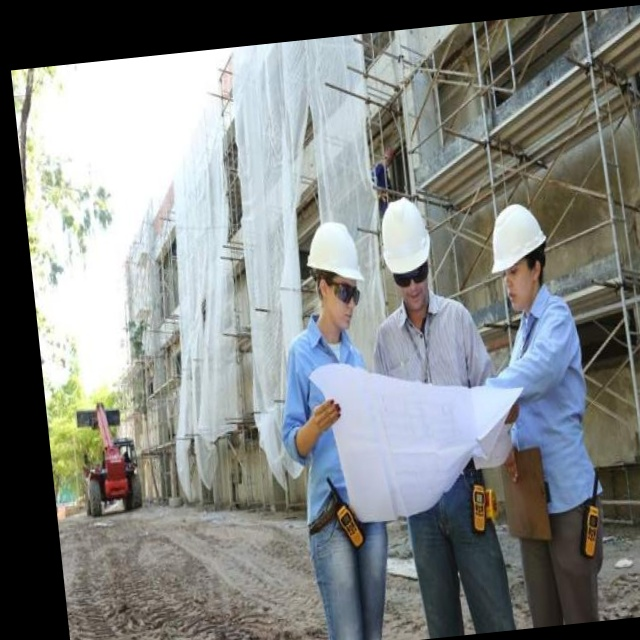Con_Casco: (298, 217, 367, 331), (487, 201, 551, 309), (376, 196, 437, 309)
